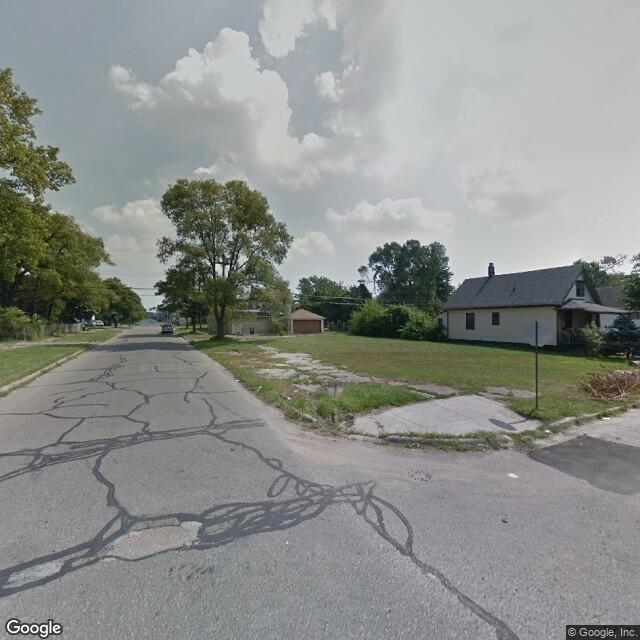litter: (293, 387, 302, 394), (543, 428, 553, 433), (284, 394, 290, 401), (603, 415, 611, 419), (255, 385, 263, 388), (235, 377, 240, 381), (36, 376, 40, 381)
